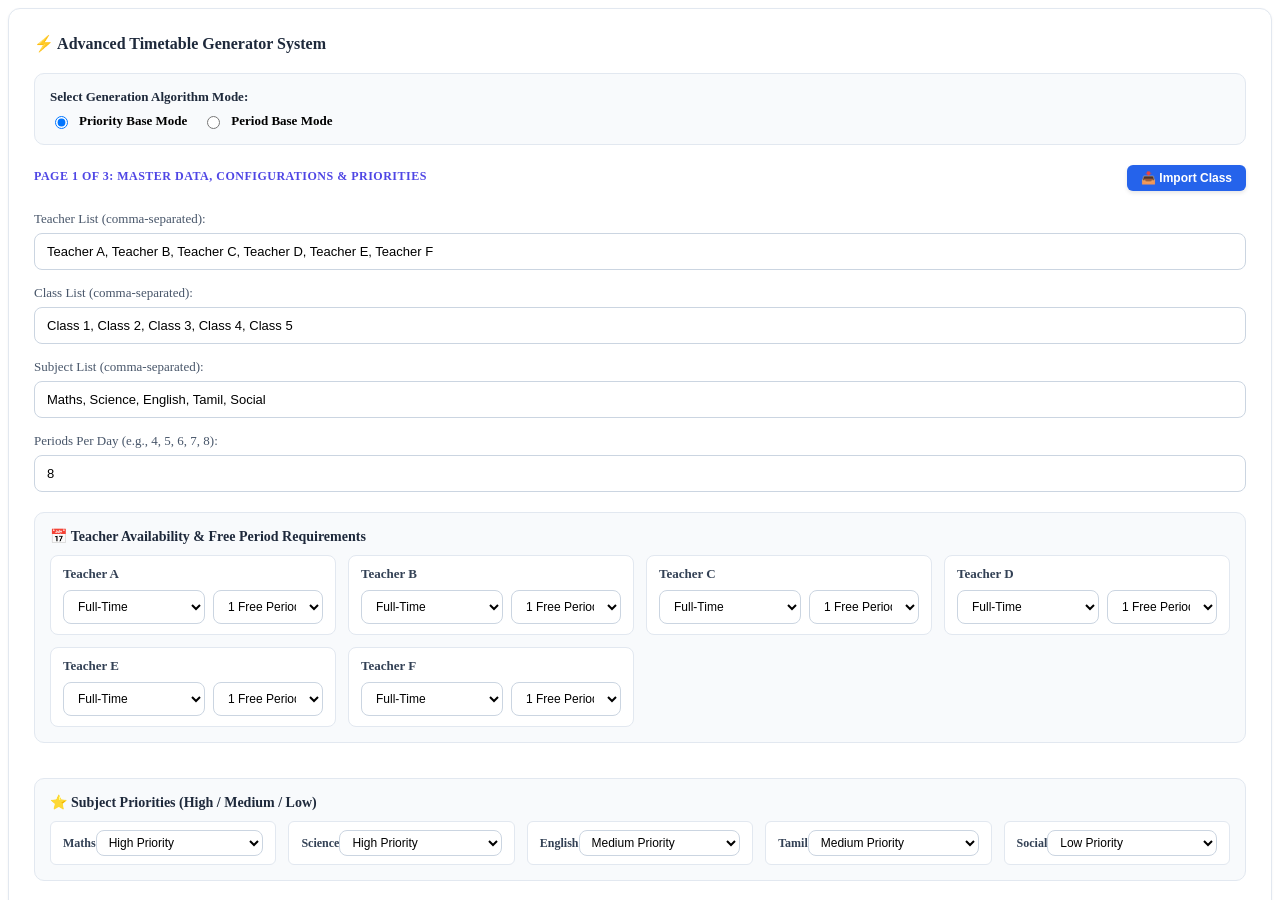
Test: TimetableDashboard Component › validates and shows error if inputs are cleared when proceeding to page 2
The image size is (1280, 900).
// Clear teachers input field
Clear the field showing "Teacher A, Teacher B" below "Teacher List (comma-separated):". click: x=640, y=252
box: [34,233,1246,270]
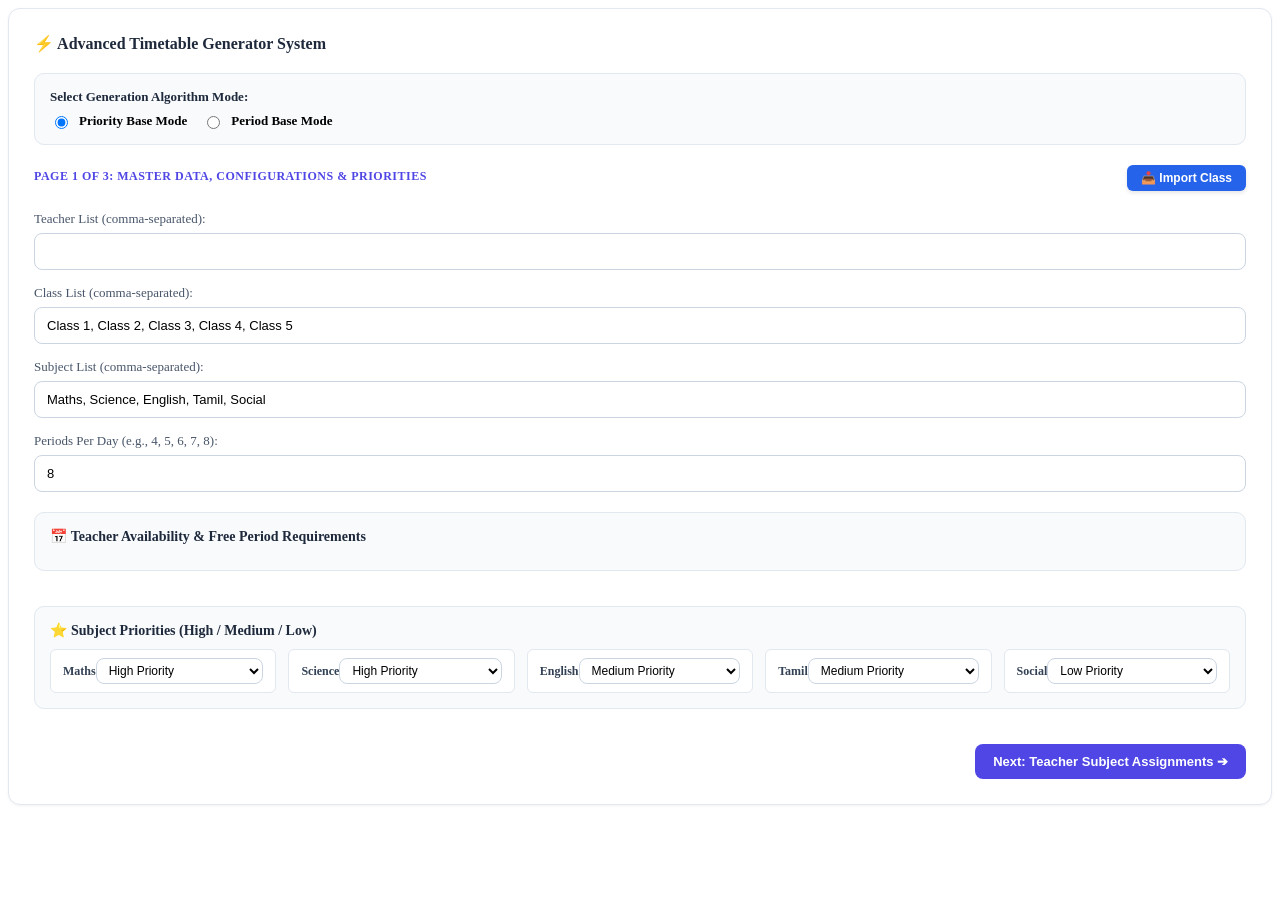
// Click proceed button using its exact name
Click the button "Next: Teacher Subject Assignments ➔". click: x=1111, y=762
box: [975,744,1246,779]
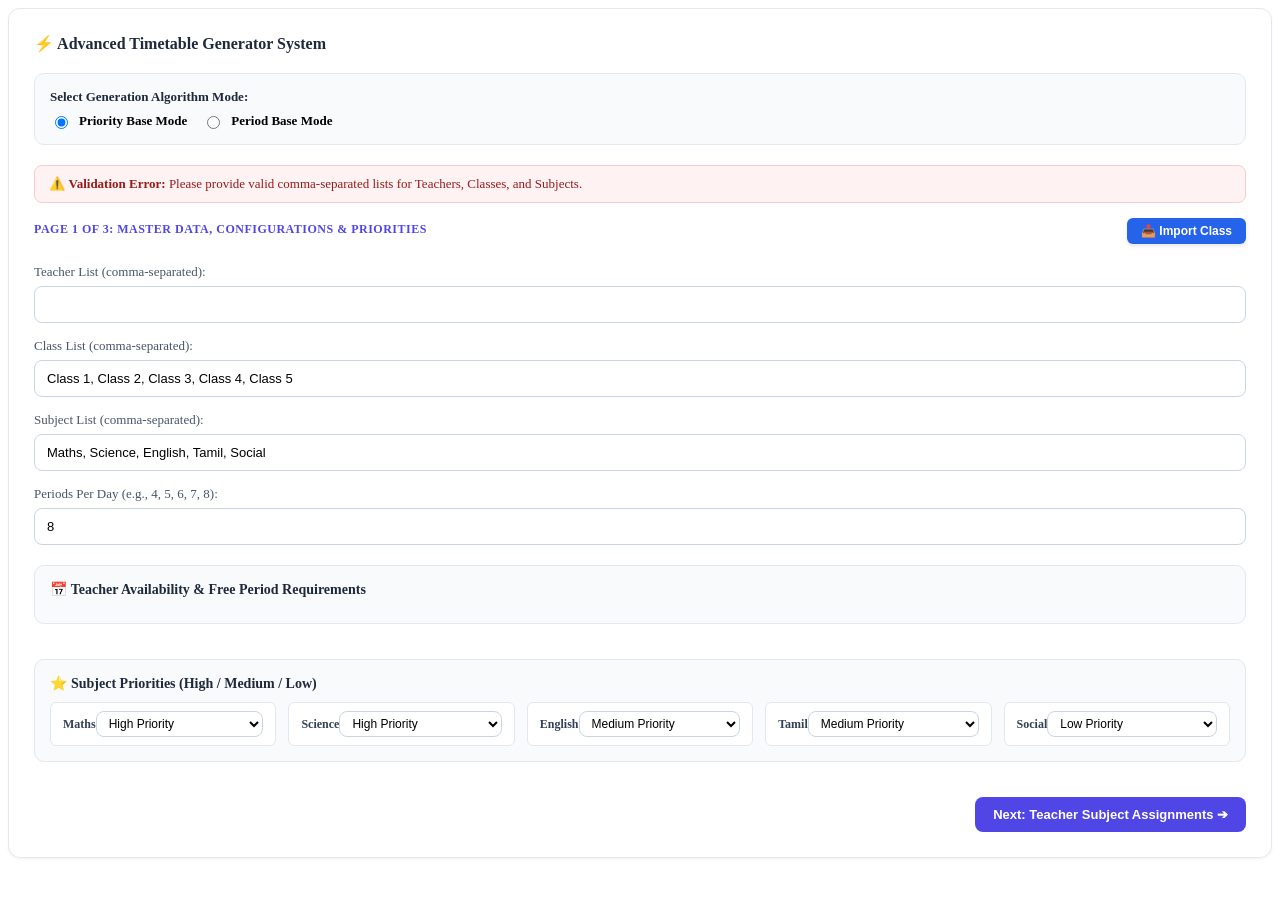
Expected: the text "Please provide valid comma-separated lists" is shown, [169,176,582,191]
